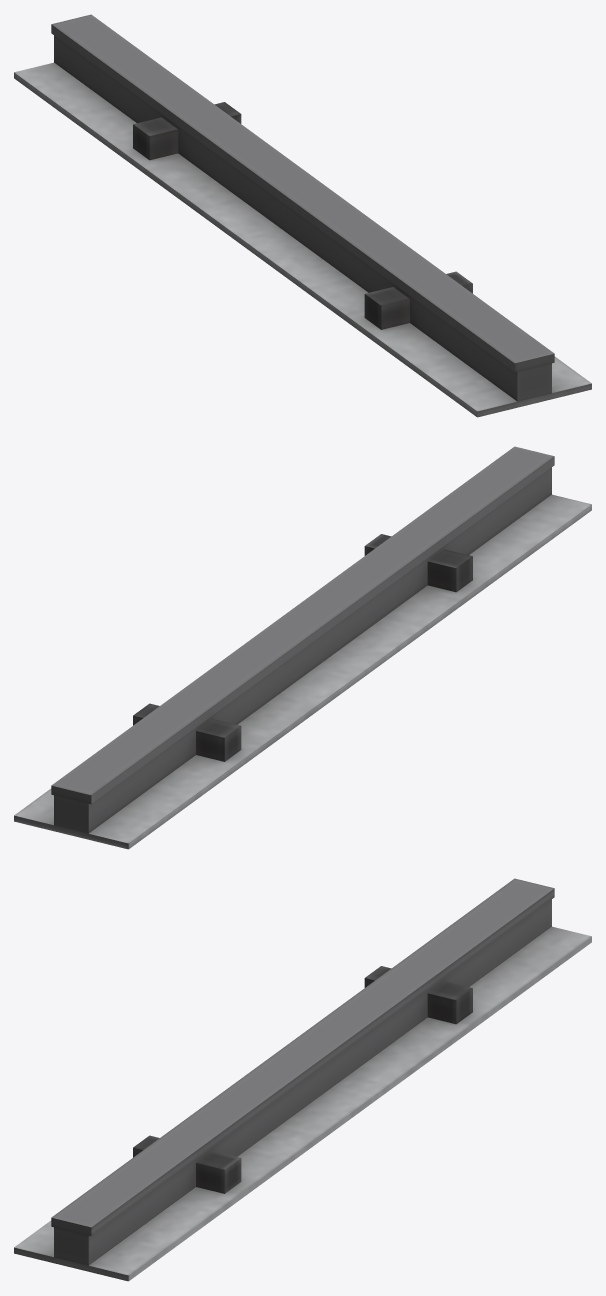
The model's file is Aisle_Rail.fbx.
3 renders of one model, top to bottom at view 1: azimuth 30°, elevation 25°; view 2: azimuth 150°, elevation 25°; view 3: azimuth 330°, elevation 25°, orthographic.
Visible parts, largest first — view 1: Aisle_Rail_LOD0; view 2: Aisle_Rail_LOD0; view 3: Aisle_Rail_LOD0.
Boxes of the visible parts, x1,y1,x2,y2 form: Aisle_Rail_LOD0: (14, 14, 591, 417); Aisle_Rail_LOD0: (14, 446, 591, 849); Aisle_Rail_LOD0: (14, 878, 591, 1281).
Size of what is drawn, in the model's own units: 0.2 by 0.075 by 1.4.
Materials: 1 (1 with a texture image).
